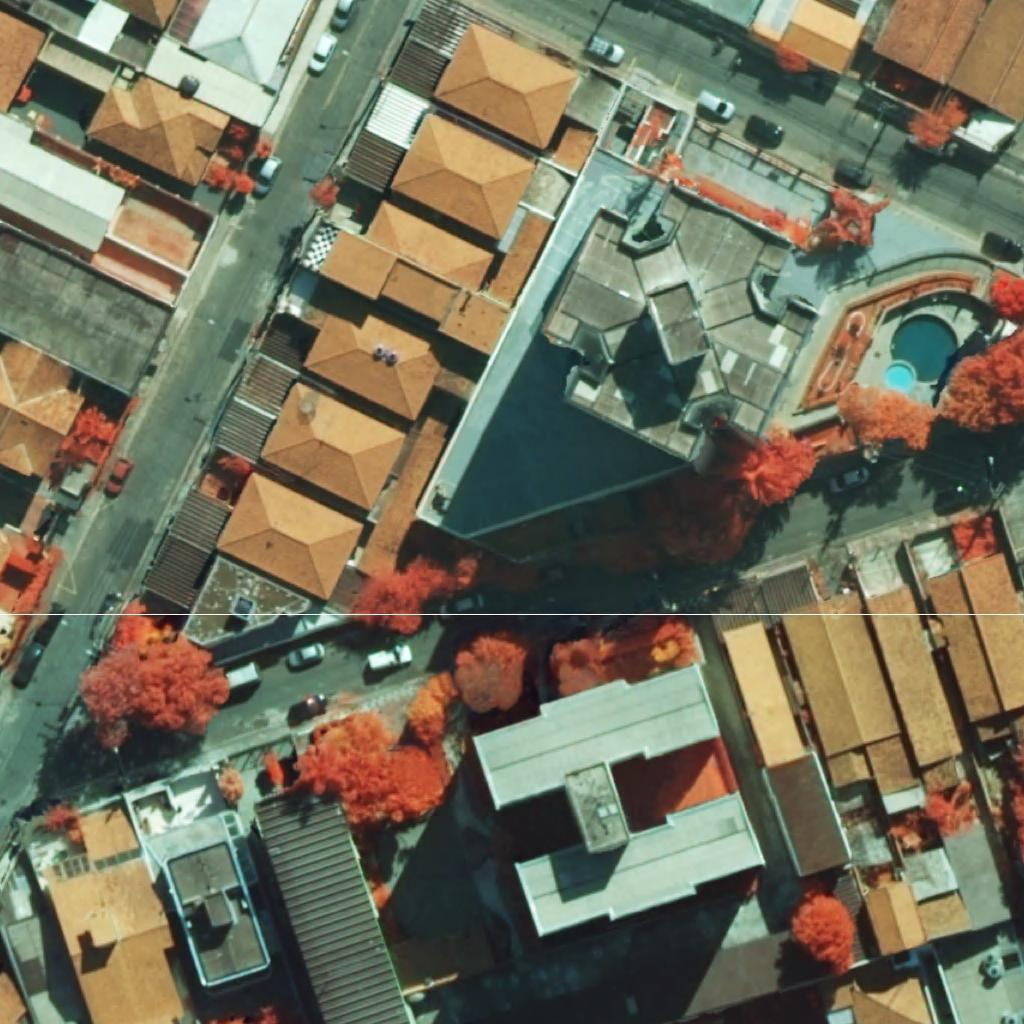pool: (890, 315, 958, 383), (886, 365, 913, 390)
